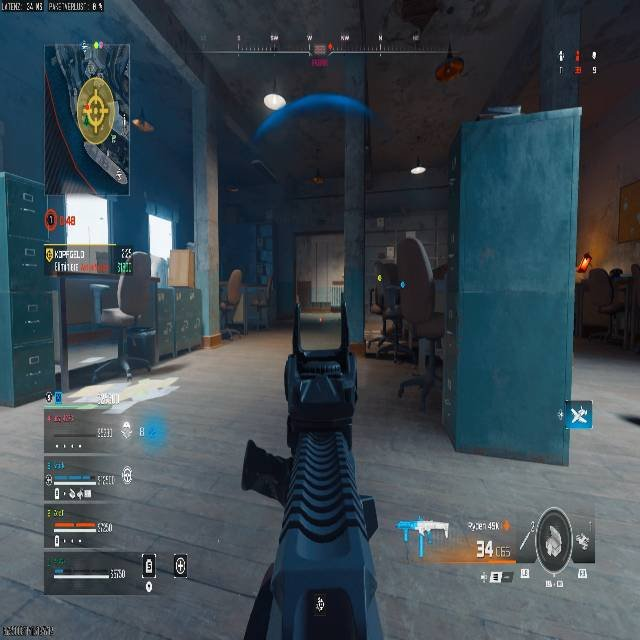player: (375, 293, 403, 361)
